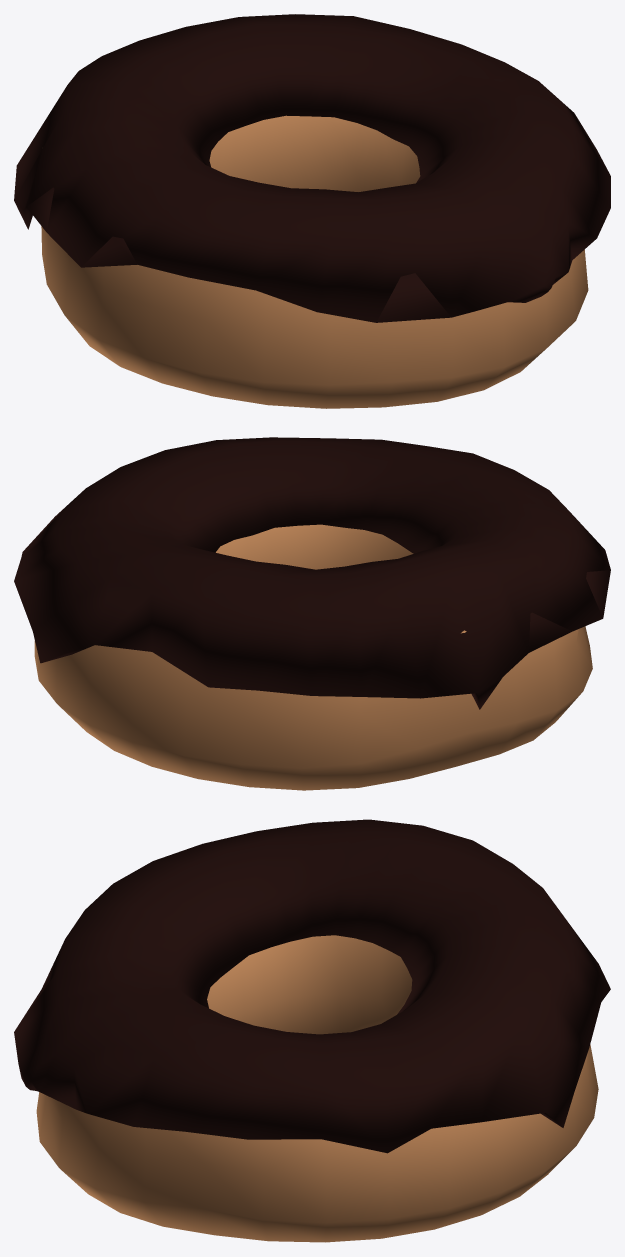
Rendered from donut.fbx.
3 views of the same model, one above another, from view 1: azimuth 30°, elevation 25°; view 2: azimuth 150°, elevation 25°; view 3: azimuth 270°, elevation 25° (orthographic). The views are drawn at different scales.
Parts seen in each view (by area): view 1: icing, Donut; view 2: icing, Donut; view 3: icing, Donut.
Boxes of the visible parts, x1,y1,x2,y2 form: icing: [14, 14, 610, 322]; Donut: [41, 115, 588, 408]; icing: [14, 437, 610, 709]; Donut: [34, 524, 592, 790]; icing: [14, 819, 610, 1153]; Donut: [36, 935, 598, 1242].
Bounding box in the file's own units: 14.64 × 6.13 × 13.9.
